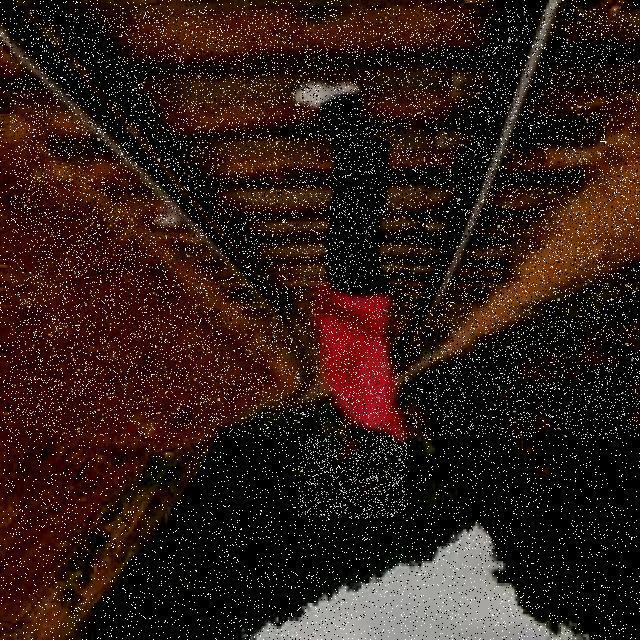danger: (298, 65, 408, 518)
rail: (10, 9, 639, 436)
